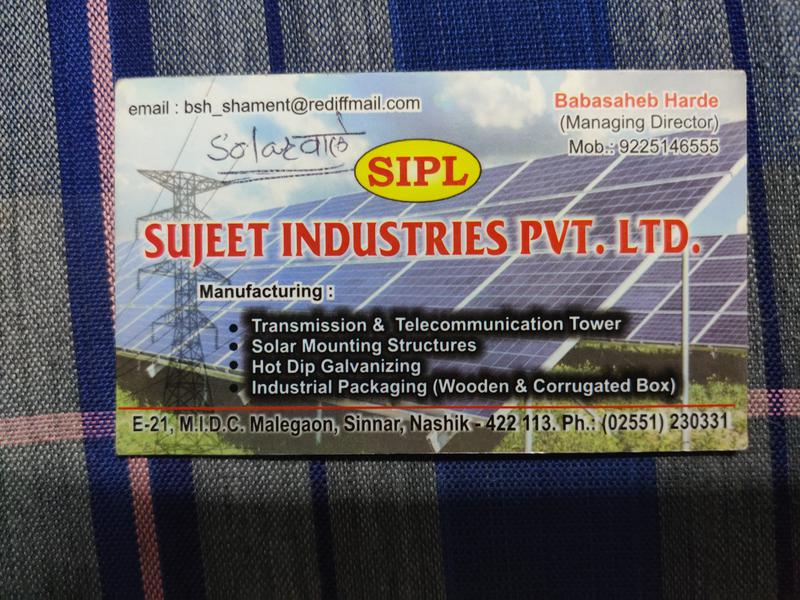card: (117, 69, 750, 456)
